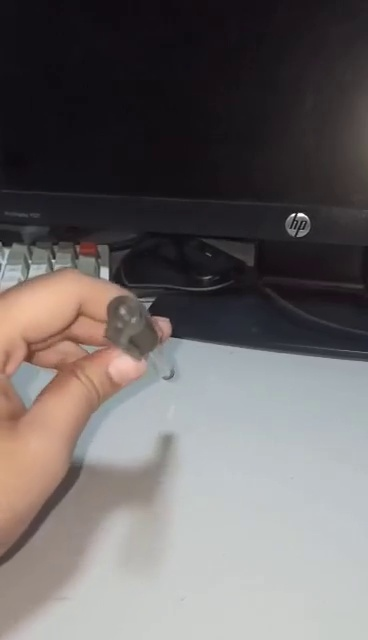ballpen: (104, 295, 160, 364)
hand: (1, 270, 173, 547)
